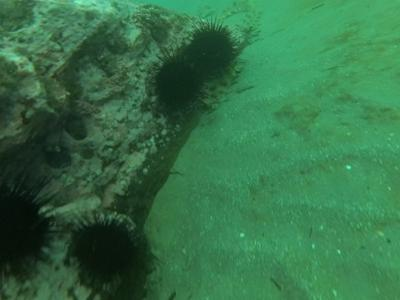urchin: (67, 209, 138, 289), (4, 171, 52, 283), (149, 45, 202, 112), (187, 15, 241, 79)
